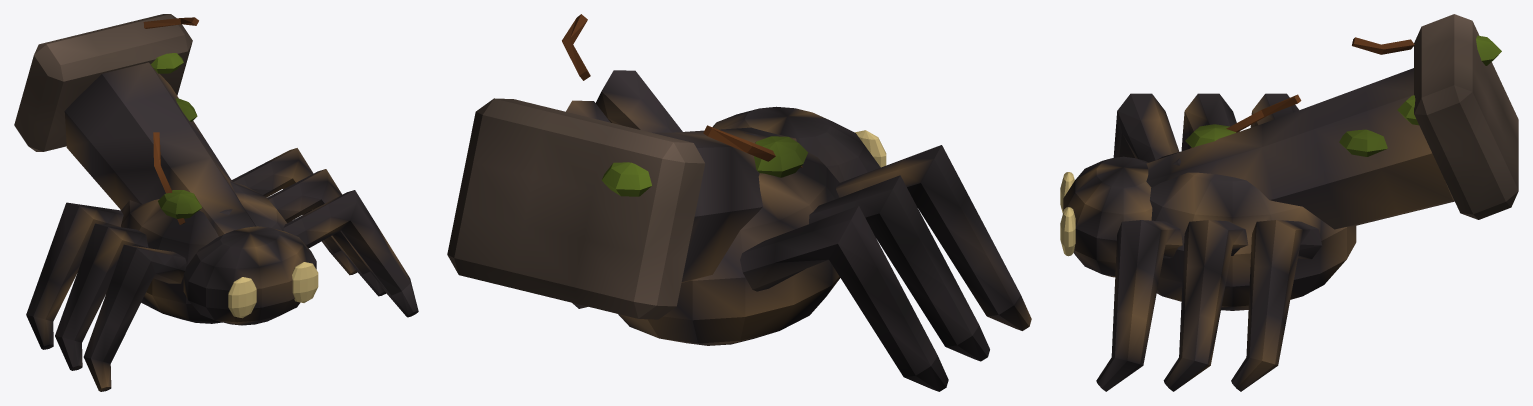
Rendered from nail_beetle.fbx.
The picture shows the model from 3 angles, left to right: view 1: azimuth 30°, elevation 25°; view 2: azimuth 150°, elevation 25°; view 3: azimuth 270°, elevation 25°; orthographic projection. The views are drawn at different scales.
Visible parts, largest first — view 1: nail_beetle; view 2: nail_beetle; view 3: nail_beetle.
Boxes of the visible parts, x1=… form: nail_beetle: x1=14, y1=14, x2=418, y2=391; nail_beetle: x1=447, y1=14, x2=1031, y2=391; nail_beetle: x1=1060, y1=14, x2=1518, y2=391.
Size of the model in its own units: 2.21 by 1.62 by 2.31.
